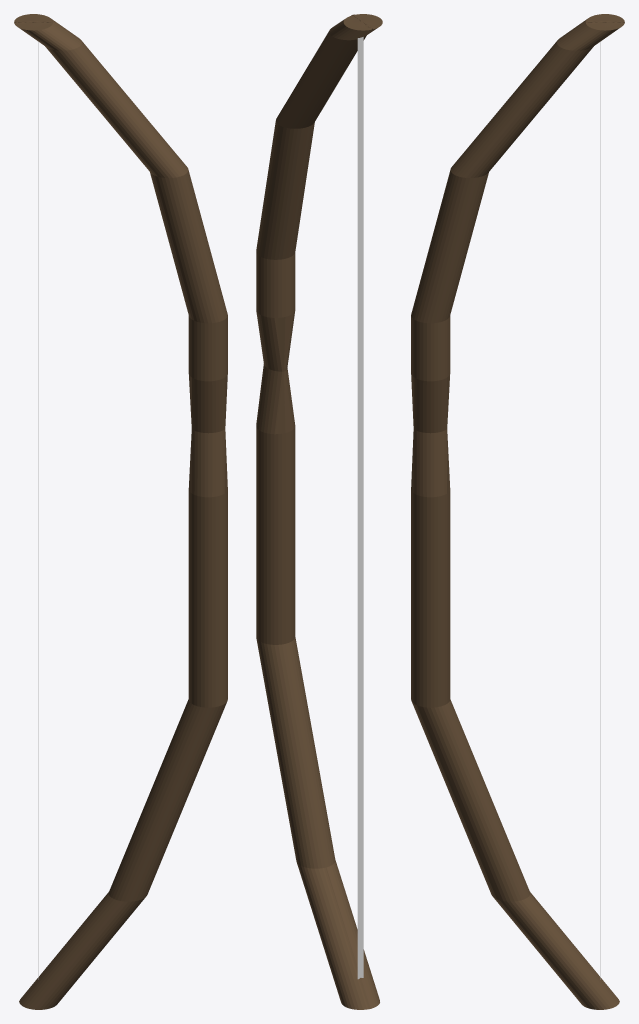
File: Arc.fbx
3 views of the same model, side by side, from view 1: azimuth 90°, elevation 25°; view 2: azimuth 210°, elevation 25°; view 3: azimuth 270°, elevation 25° (orthographic).
Visible parts, largest first — view 1: Cylindre, Plan; view 2: Cylindre, Plan; view 3: Cylindre, Plan.
Part boxes in pixels (x1,y1,x2,y2): Cylindre: (14,14,227,1009); Plan: (38,42,38,979); Cylindre: (256,14,382,1009); Plan: (357,37,363,979); Cylindre: (411,14,624,1009); Plan: (600,42,600,979).
Size of the model in its own units: 81.13 by 2240 by 443.
